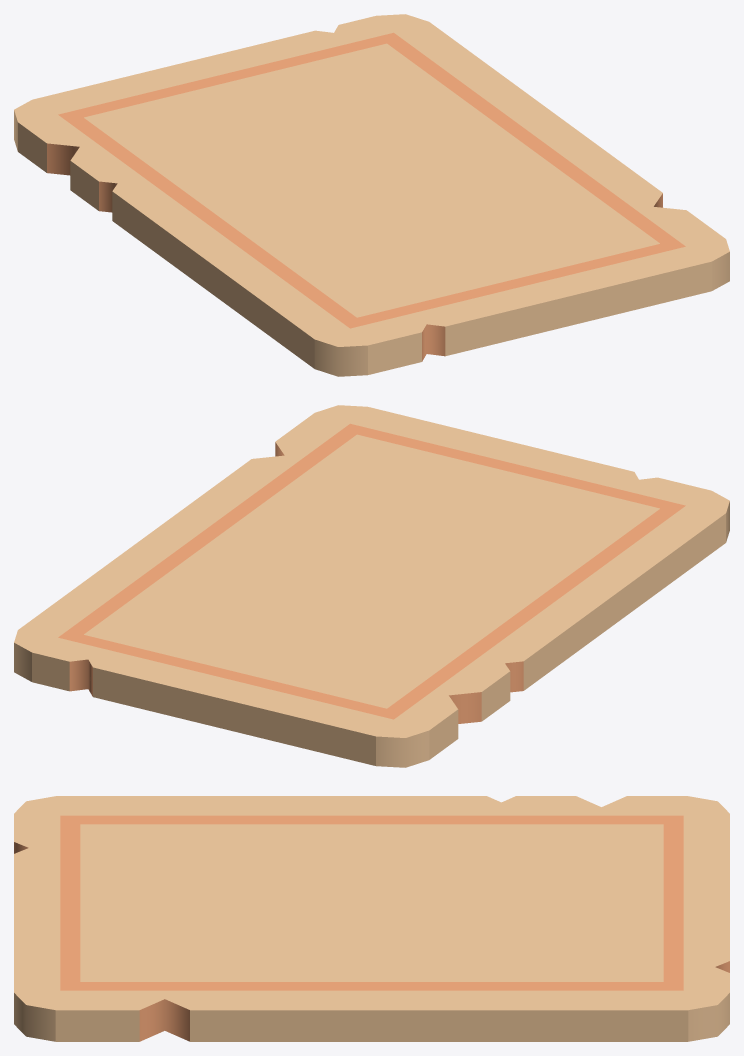
Rendered from cuttingBoard.dae.
3 renders of one model, top to bottom at view 1: azimuth 30°, elevation 25°; view 2: azimuth 150°, elevation 25°; view 3: azimuth 270°, elevation 25°, orthographic. The views are drawn at different scales.
Parts seen in each view (by area): view 1: cuttingBoard; view 2: cuttingBoard; view 3: cuttingBoard.
Part boxes in pixels (x1,y1,x2,y2): cuttingBoard: (14, 14, 729, 376); cuttingBoard: (14, 405, 729, 767); cuttingBoard: (14, 796, 729, 1041).
Size of the model in its own units: 0.58 by 0.04 by 0.82.
